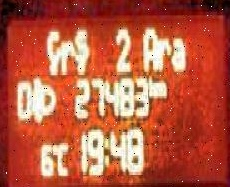0: (15, 74, 30, 123)
1: (78, 127, 85, 178)
2: (113, 23, 130, 72), (73, 73, 89, 118)
3: (133, 71, 149, 118)
4: (109, 127, 125, 173), (104, 76, 118, 116)
6: (39, 140, 53, 176)
7: (90, 74, 104, 116)
8: (125, 127, 142, 171), (118, 76, 133, 116)
9: (87, 125, 103, 174)
X: (74, 25, 89, 71), (141, 25, 156, 69), (45, 27, 59, 73), (156, 36, 171, 69), (171, 34, 185, 69), (59, 36, 73, 71), (56, 140, 69, 176), (155, 78, 166, 100), (103, 131, 109, 169), (149, 73, 155, 98)
